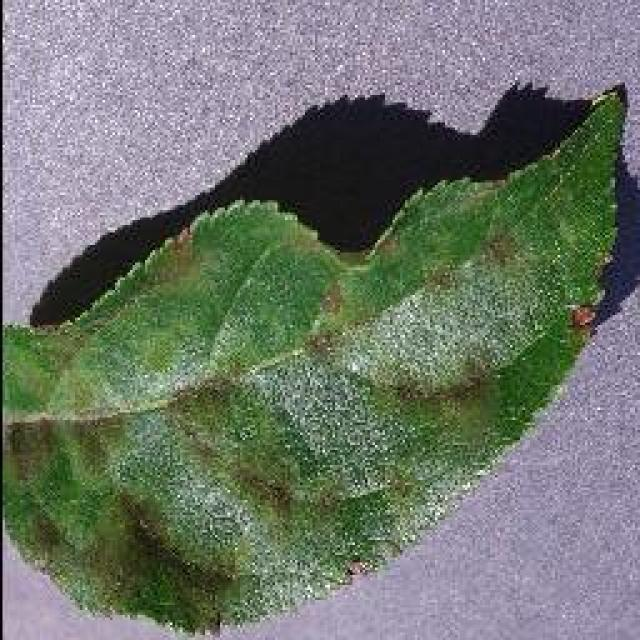apple scab disease: (0, 74, 632, 637)
